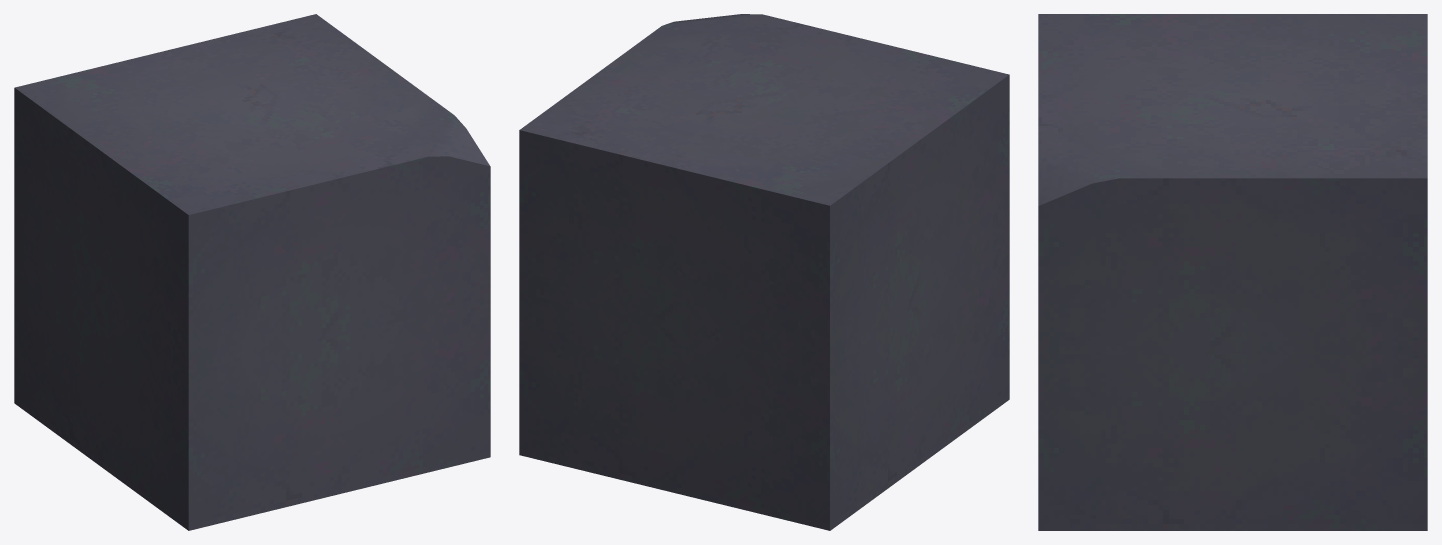
Rendered from Road2.glb.
3 views of the same model, side by side, from view 1: azimuth 30°, elevation 25°; view 2: azimuth 150°, elevation 25°; view 3: azimuth 270°, elevation 25° (orthographic). The views are drawn at different scales.
Visible parts, largest first — view 1: Cube.037; view 2: Cube.037; view 3: Cube.037.
Part boxes in pixels (x1,y1,x2,y2): Cube.037: (14,14,490,530); Cube.037: (519,14,1009,530); Cube.037: (1038,14,1427,530).
Bounding box in the file's own units: 8 × 8 × 8.
1 material, 1 textured.
